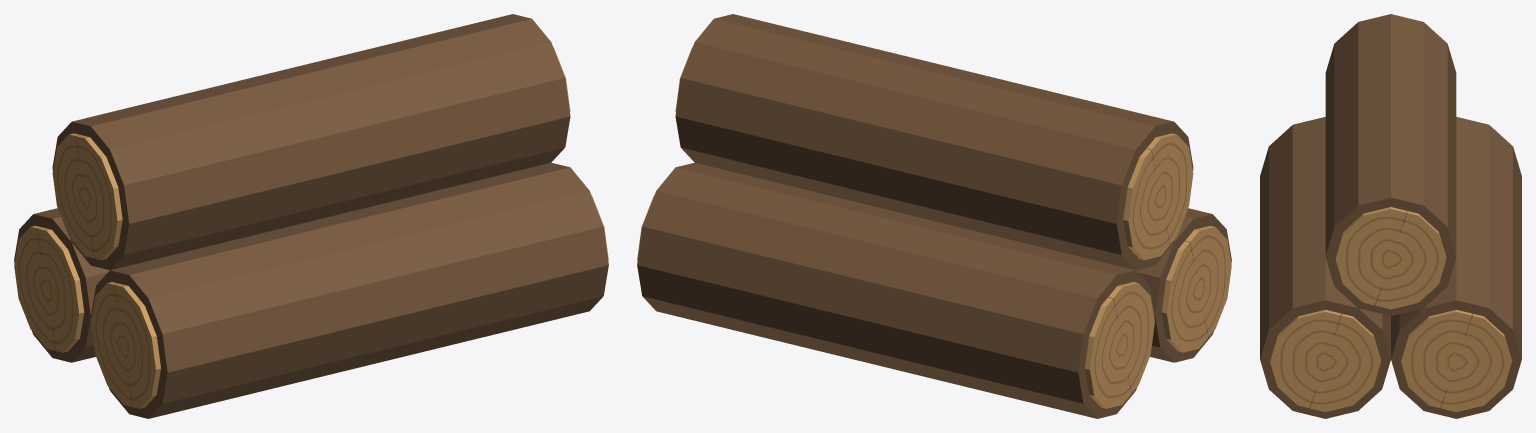
The model's file is blocker-logs.glb.
3 views of the same model, side by side, from view 1: azimuth 30°, elevation 25°; view 2: azimuth 150°, elevation 25°; view 3: azimuth 270°, elevation 25° (orthographic). The views are drawn at different scales.
Parts seen in each view (by area): view 1: Mesh_blocker-logs_darkWood, Mesh_blocker-logs_endgrain; view 2: Mesh_blocker-logs_darkWood, Mesh_blocker-logs_endgrain; view 3: Mesh_blocker-logs_darkWood, Mesh_blocker-logs_endgrain.
Boxes of the visible parts, left/top/right/bottom form: Mesh_blocker-logs_darkWood: left=14, top=14, right=608, bottom=418; Mesh_blocker-logs_endgrain: left=14, top=47, right=608, bottom=408; Mesh_blocker-logs_darkWood: left=637, top=14, right=1231, bottom=418; Mesh_blocker-logs_endgrain: left=637, top=47, right=1231, bottom=408; Mesh_blocker-logs_darkWood: left=1260, top=14, right=1521, bottom=418; Mesh_blocker-logs_endgrain: left=1270, top=207, right=1511, bottom=412.
Bounding box in the file's own units: 0.708 × 0.3881 × 0.416.
2 materials, 1 textured.
